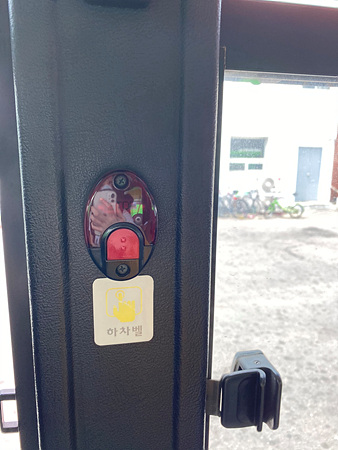bell: (84, 168, 158, 280)
